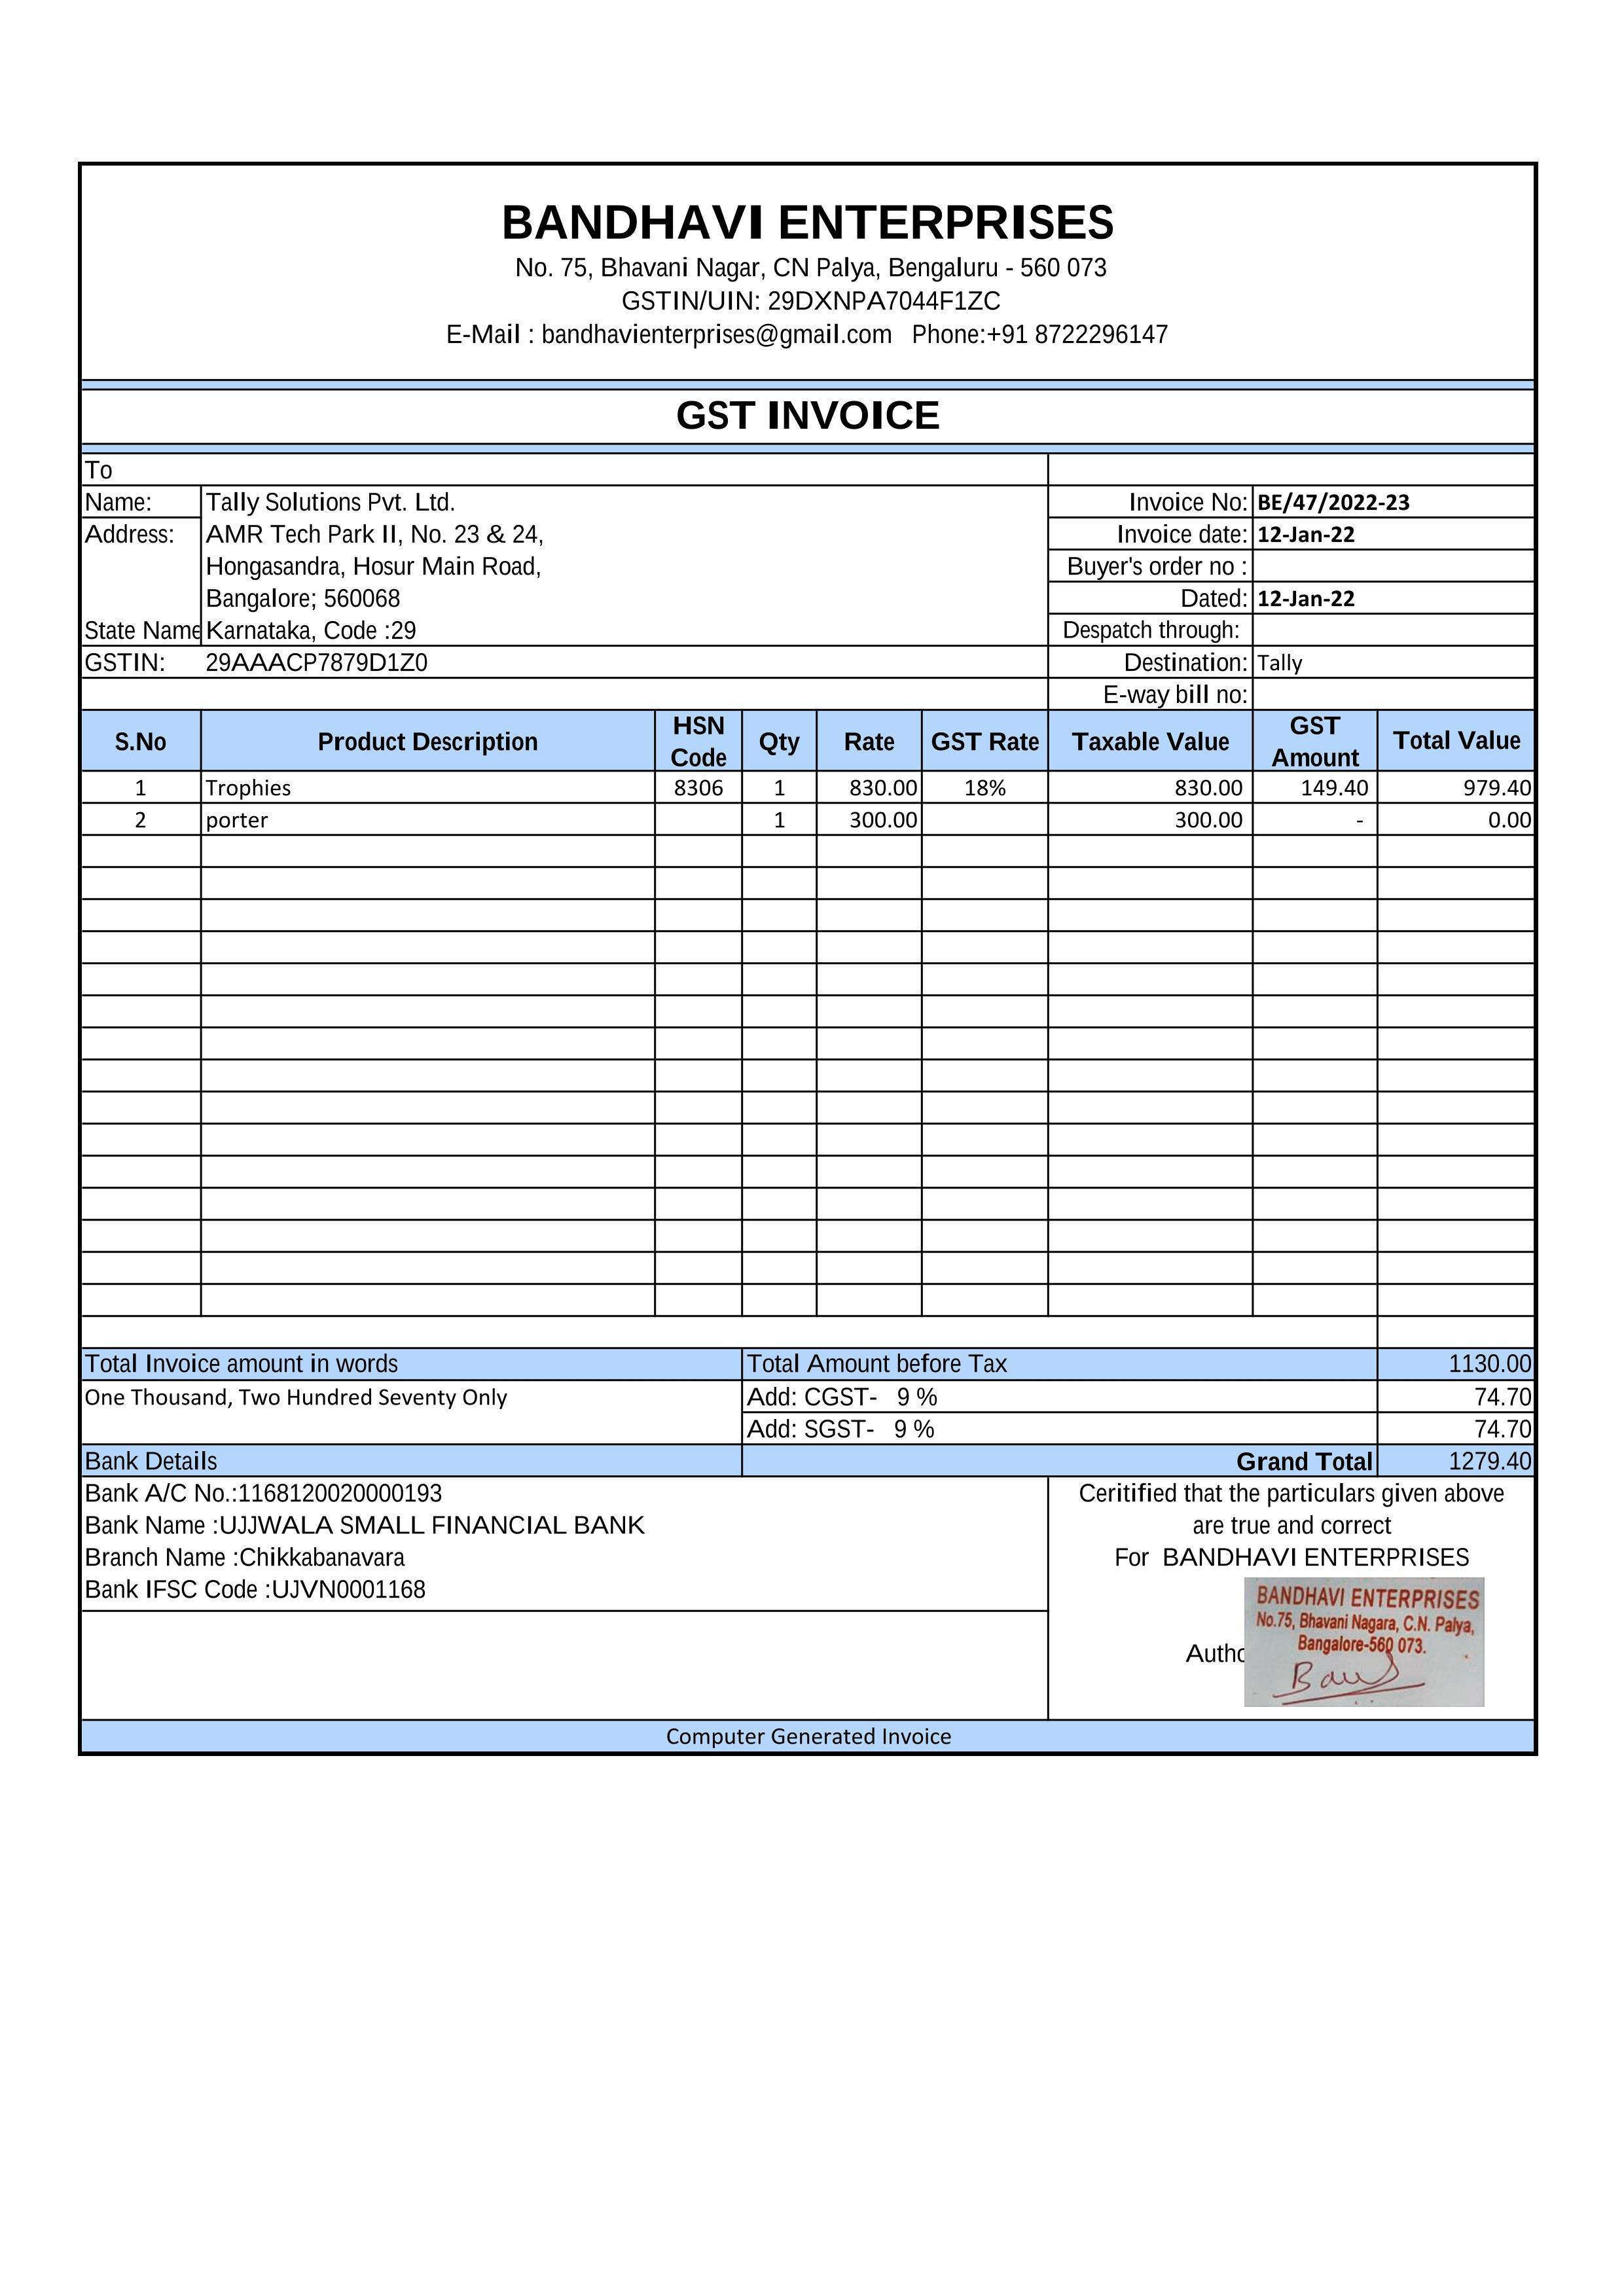InvoiceDate: (1255, 522, 1366, 553)
InvoiceNumber: (1253, 483, 1420, 516)
TotalAmount: (1443, 1446, 1540, 1481)
